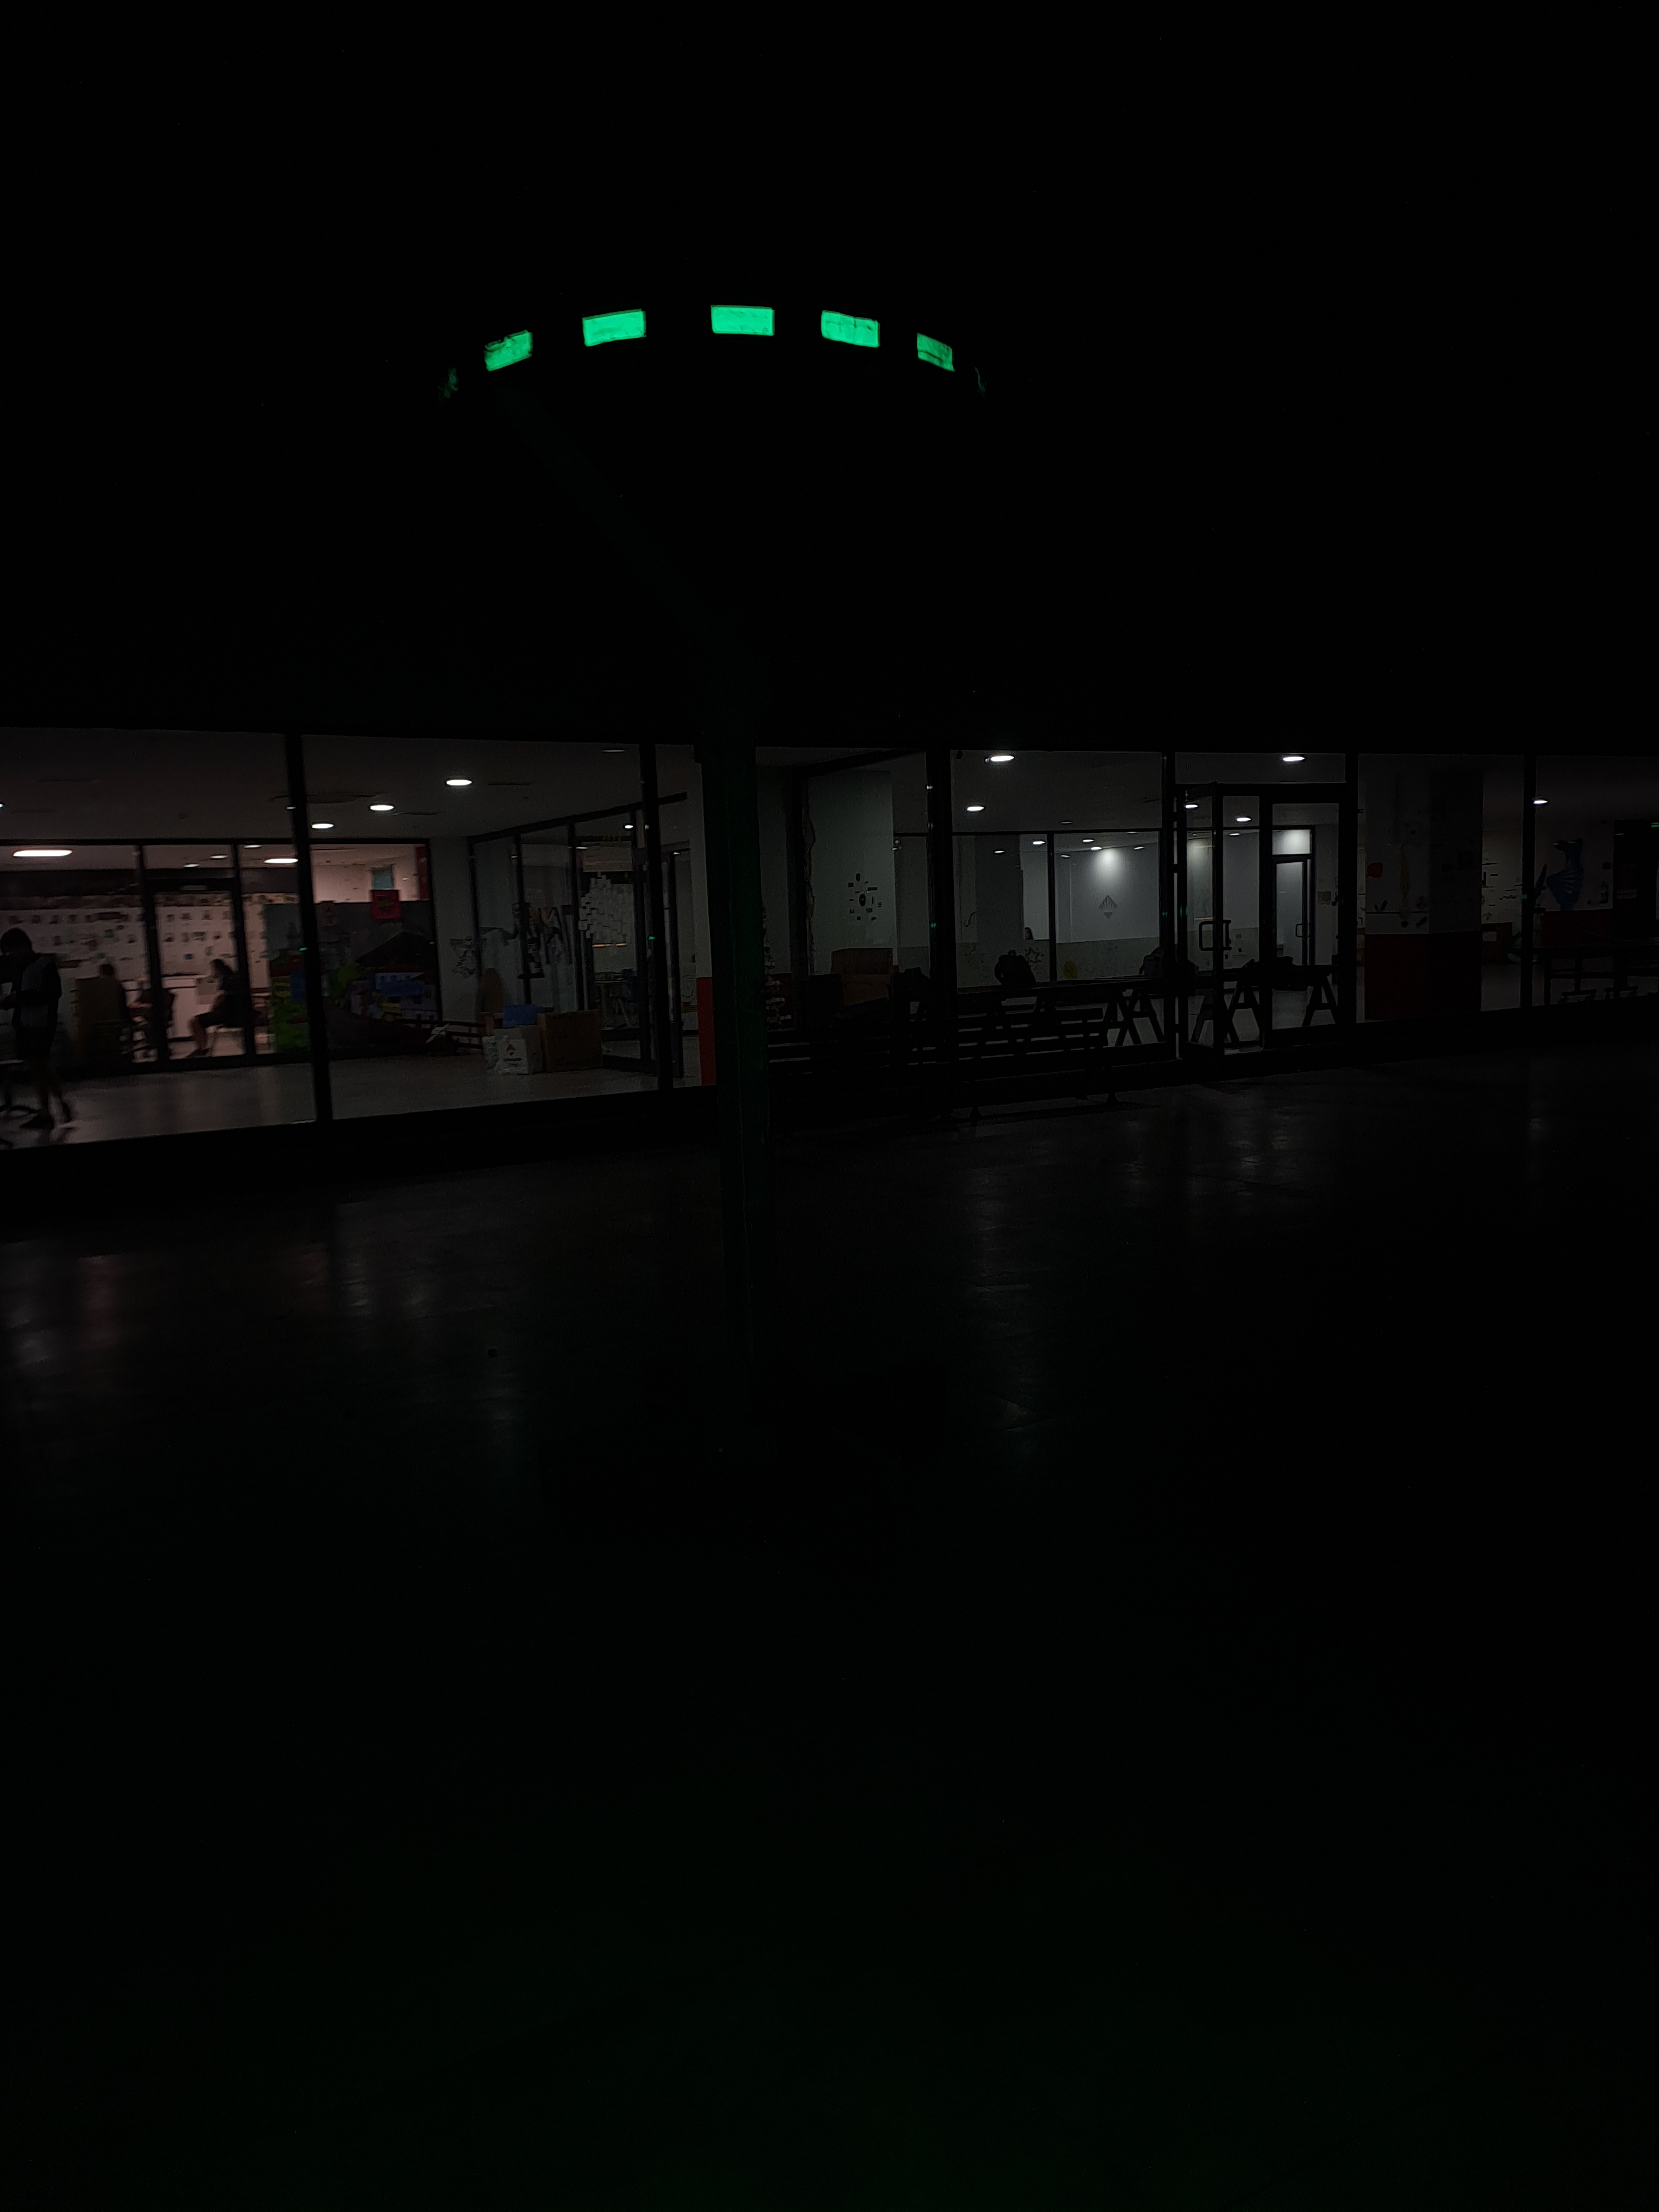hoop: (481, 277, 958, 388)
